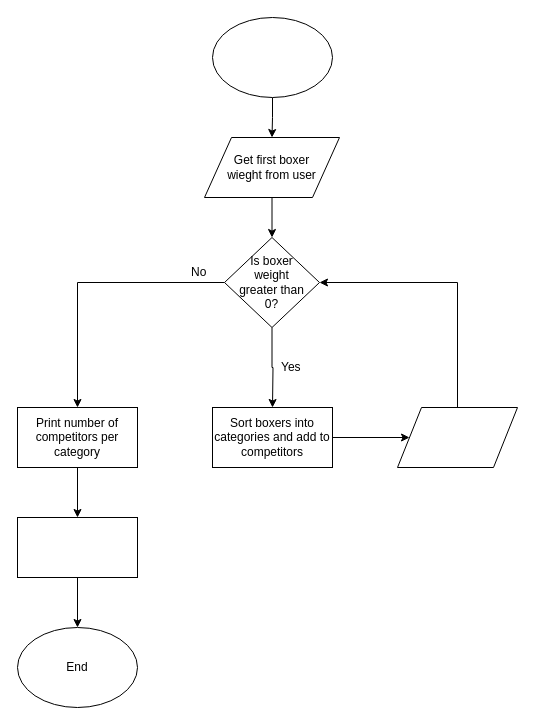
Image size: 535x725. Some labels were removed from this diagram. The shapes that lost their labels are listed below. From the top down, each one's centre as x and y in pixels, then its label:
At [272,57]: "Start".
At [457,437]: "Prompt for weight of next competitor".
At [77,547]: "Calculate and print average weight of competitors".
